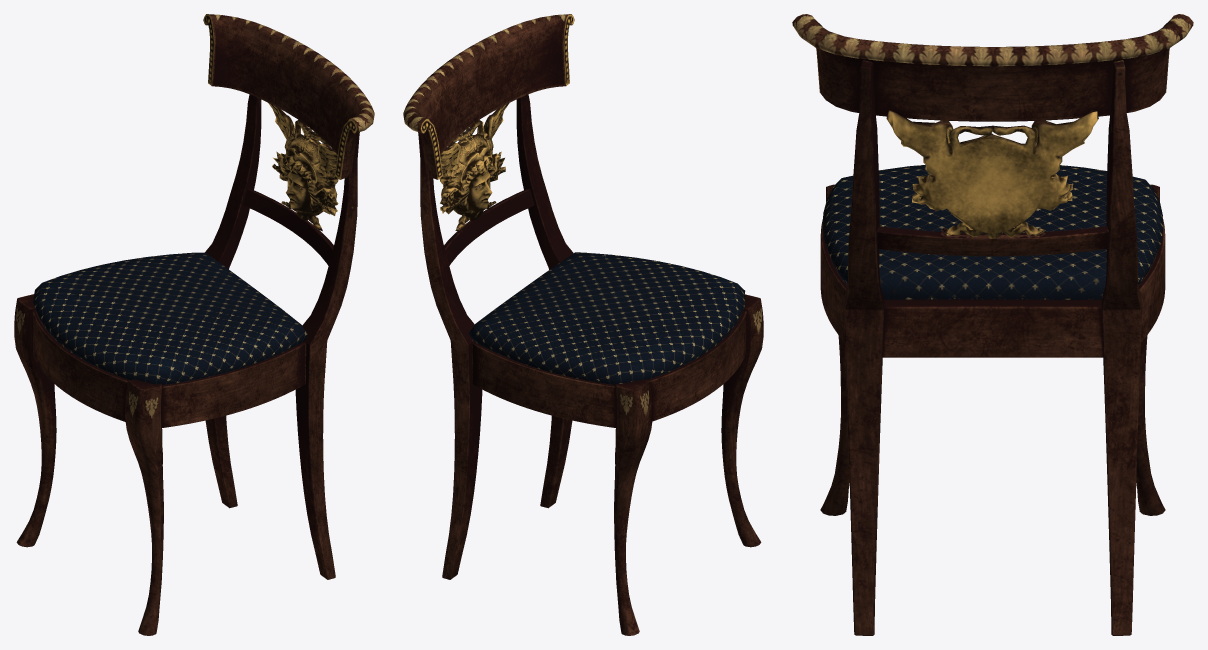
The model's file is mercury_chair_regency_period.glb.
3 renders of one model, left to right at view 1: azimuth 30°, elevation 25°; view 2: azimuth 150°, elevation 25°; view 3: azimuth 270°, elevation 25°, orthographic. The views are drawn at different scales.
Parts seen in each view (by area): view 1: SM_Chair_low_topSeat, SM_Chair_low, SM_Chair_low_head; view 2: SM_Chair_low_topSeat, SM_Chair_low, SM_Chair_low_head; view 3: SM_Chair_low, SM_Chair_low_topSeat, SM_Chair_low_head.
Part boxes in pixels (x1=…): SM_Chair_low_topSeat: x1=33, y1=14, x2=374, y2=384; SM_Chair_low: x1=14, y1=94, x2=359, y2=635; SM_Chair_low_head: x1=268, y1=103, x2=338, y2=231; SM_Chair_low_topSeat: x1=403, y1=14, x2=745, y2=384; SM_Chair_low: x1=418, y1=94, x2=763, y2=635; SM_Chair_low_head: x1=439, y1=103, x2=509, y2=230; SM_Chair_low: x1=820, y1=60, x2=1165, y2=635; SM_Chair_low_topSeat: x1=792, y1=14, x2=1193, y2=299; SM_Chair_low_head: x1=886, y1=110, x2=1098, y2=238.
Size of the model in its own units: 0.7027 by 1.18 by 0.6931.
Materials: 1 (1 with a texture image).
